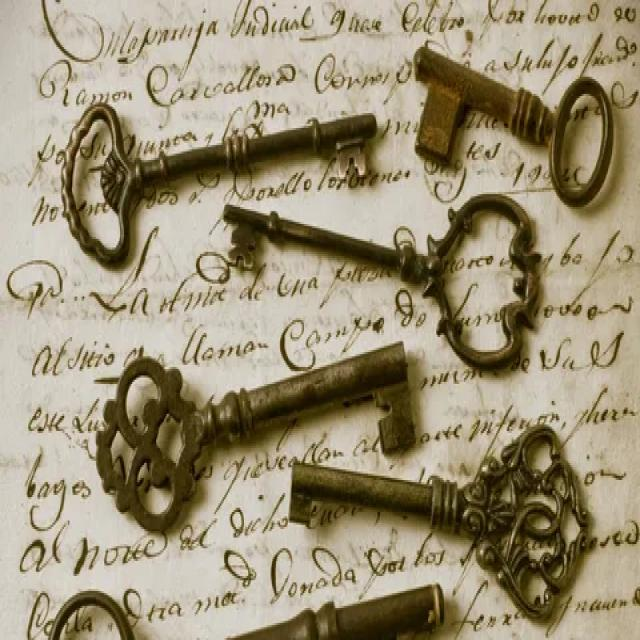key: (286, 417, 615, 636), (220, 184, 544, 362)
